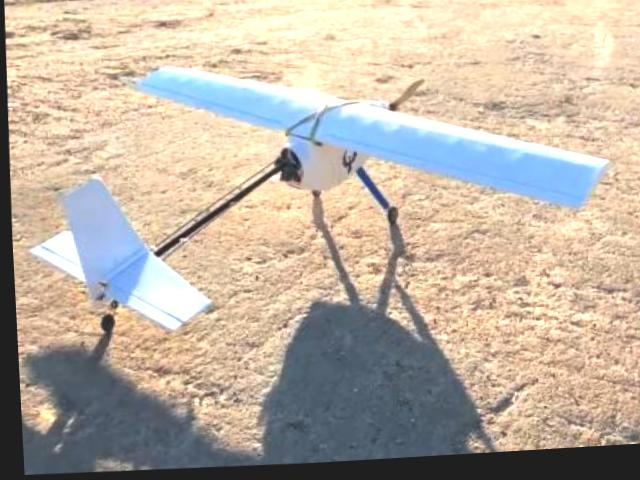uav: (11, 42, 618, 352)
